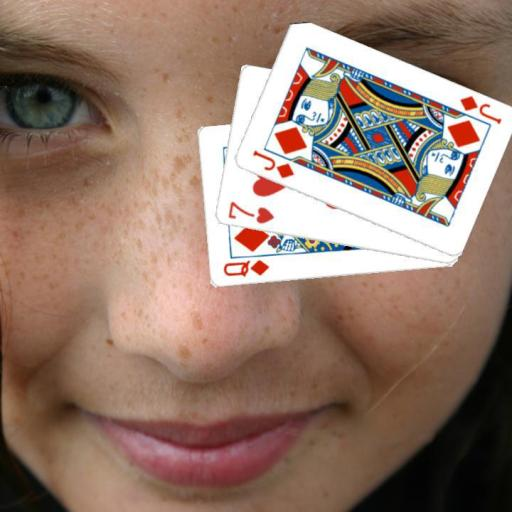7H: (224, 199, 275, 226)
JD: (456, 92, 503, 126), (249, 147, 295, 181)
QD: (220, 257, 270, 279)
